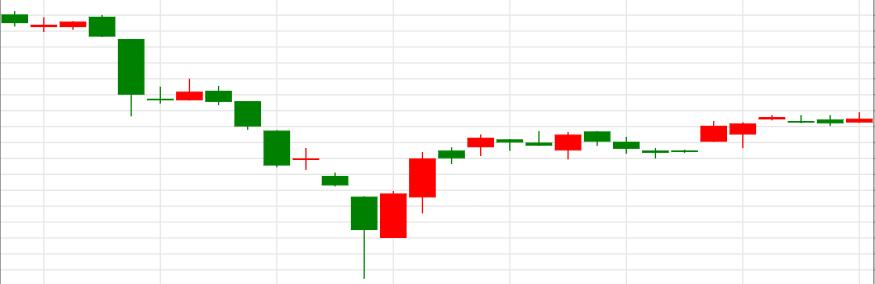hammer_rise: (205, 85, 377, 278)
